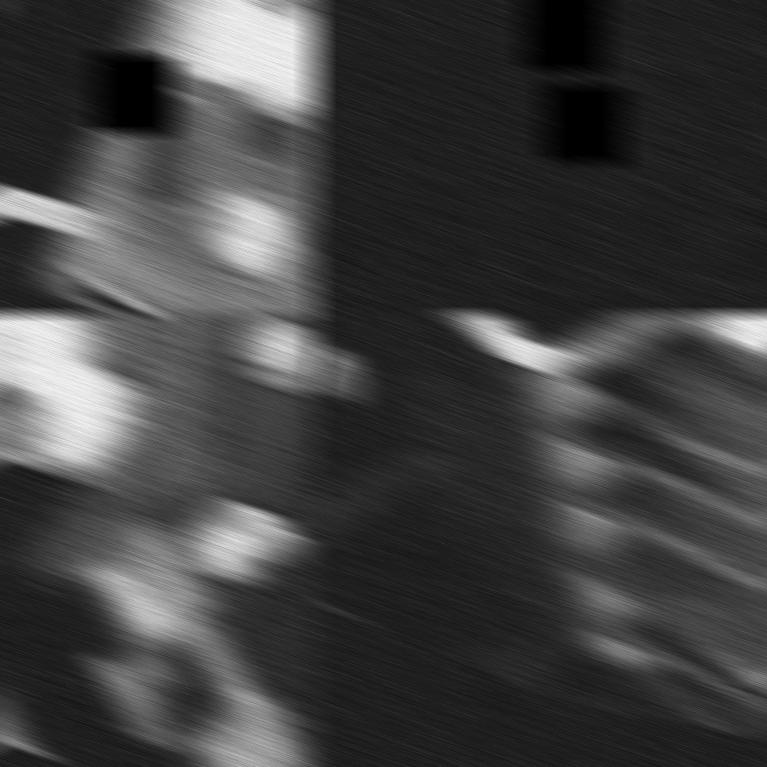Airbag: (309, 312, 767, 767), (0, 312, 319, 767), (0, 0, 319, 315)
